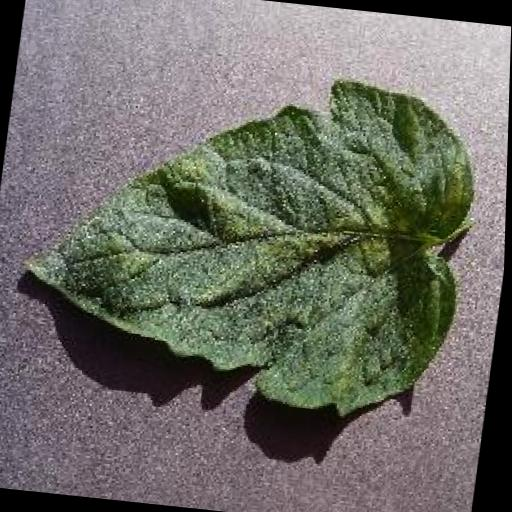Spider Mites: (5, 50, 490, 428)
